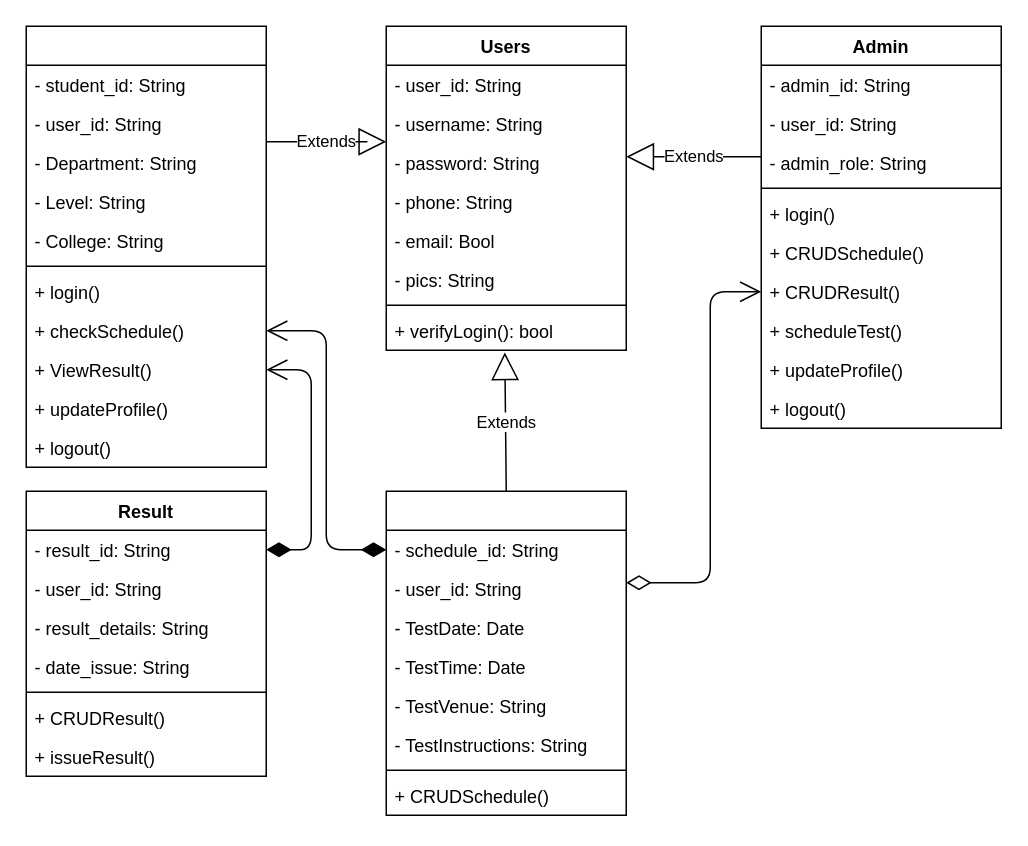
Some shapes in this 1028 by 846 pixel diagram are drawn without their labels. The shapes that lost their labels are listed below. From the top down, each one's box as (x1, y1, x2, y2) in pixels, then its label:
(25, 25, 266, 467): Students
(385, 490, 626, 815): Schedules
